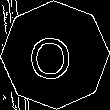O_N: (33, 29, 77, 81)
